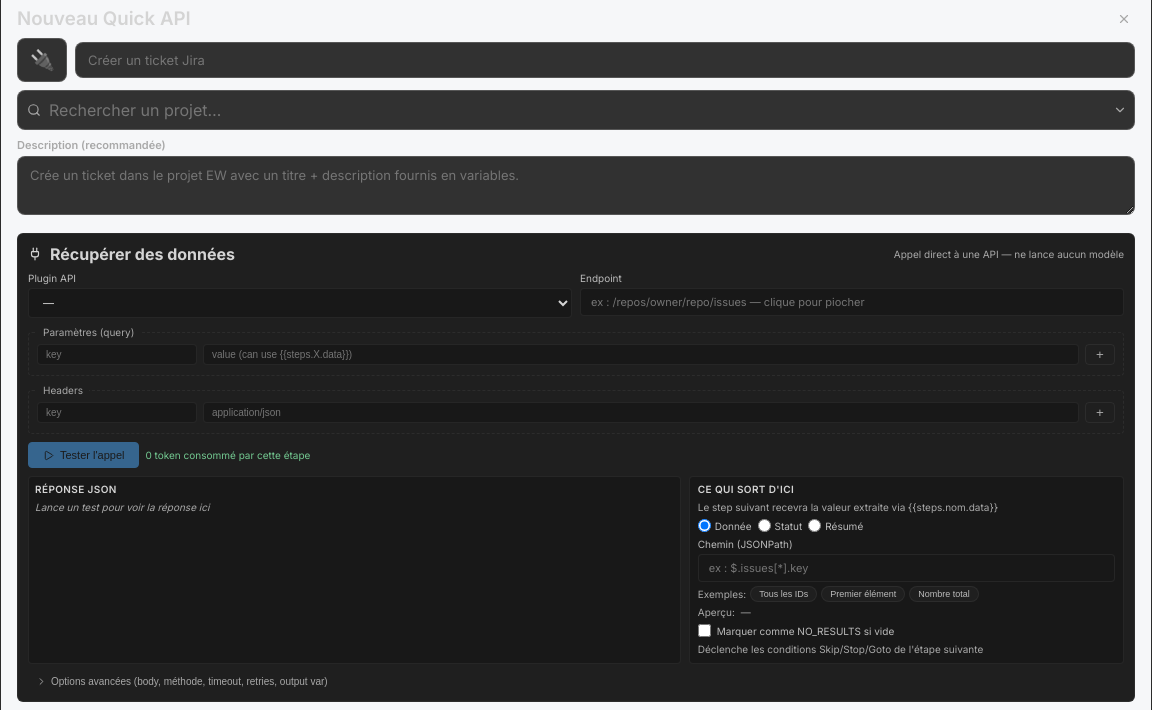
QuickApiForm — API config wiring (via ApiCallStepCard) › selecting a plugin then typing an endpoint flips Save enabled
In the field with class "wf-input" showing "Créer un ticket Jira": (605, 60) [75,42,1135,78], type "My QA"
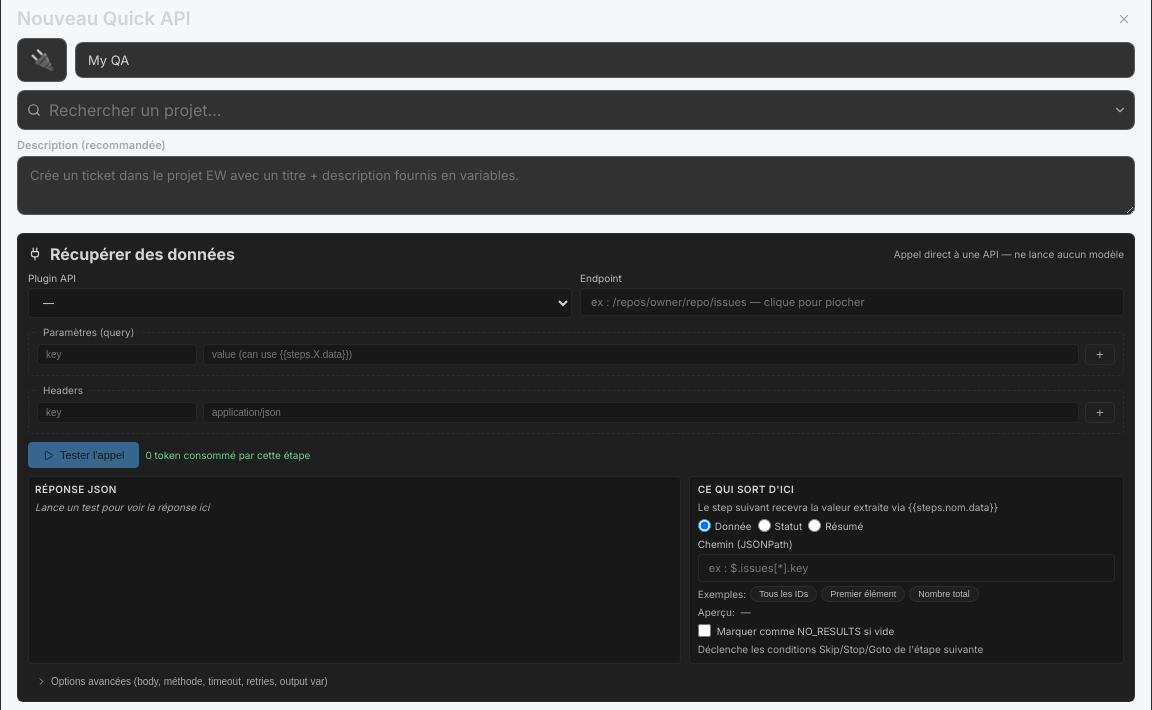
// plugin (writes api_plugin_slug + api_config_id)
Select "TestApi — Default config" in the dropdown labelled "Plugin API": (300, 303) [28,288,572,318]
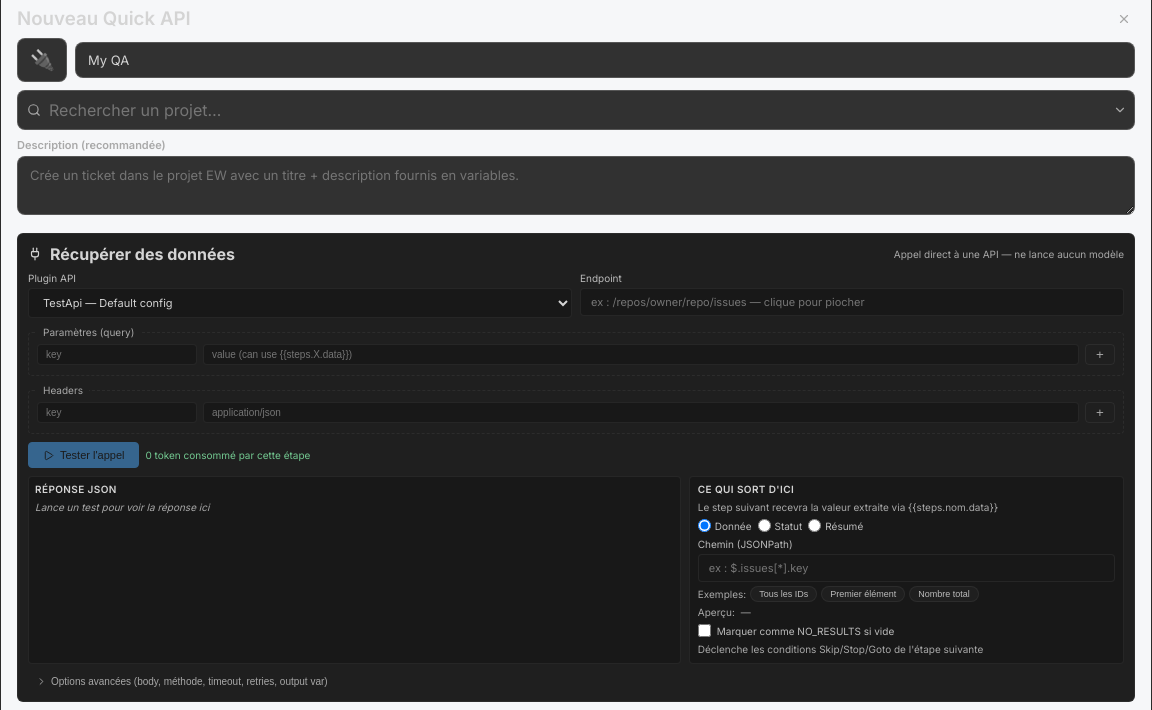
In the field labelled "Endpoint": (852, 302) [580,288,1124,316], type "/v1/things"
(page scrolled)
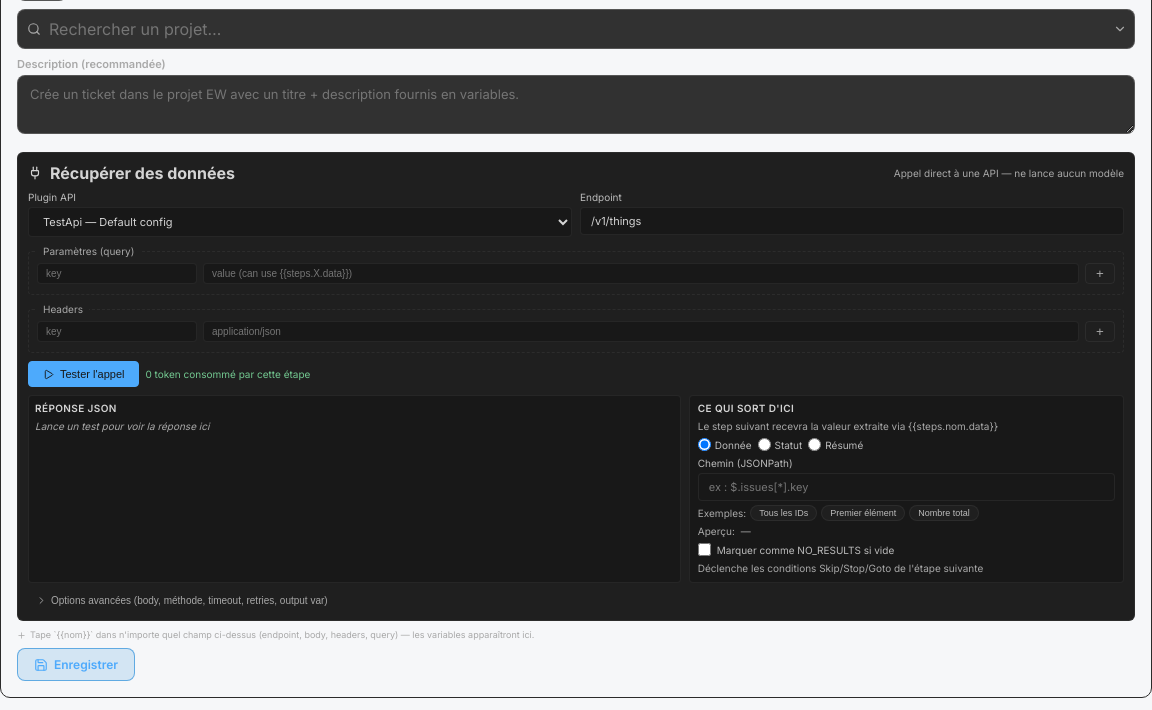
Expected: the button with class "wf-create-btn" is enabled, [17,648,135,681]
